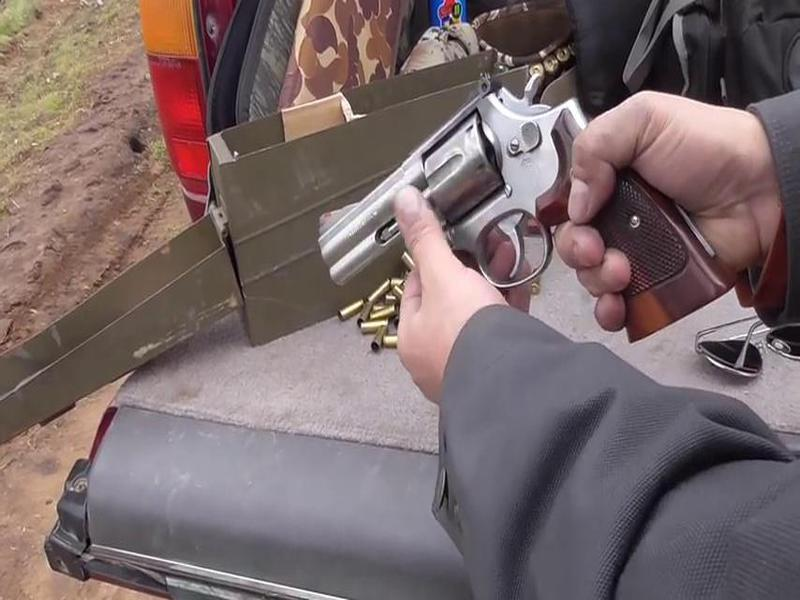Revolver: (320, 40, 732, 373)
